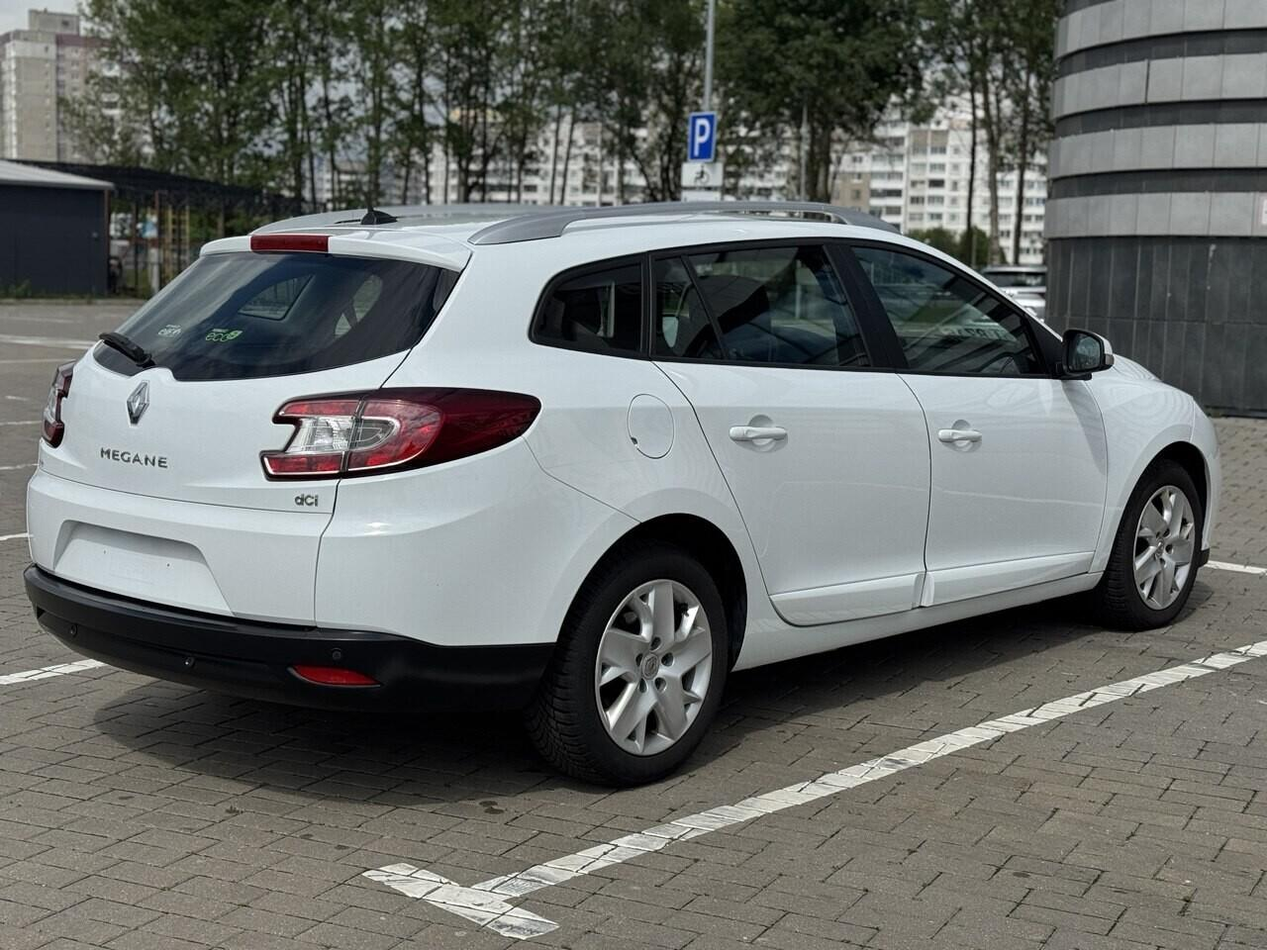Megane_2012-2014: (26, 198, 1221, 767)
